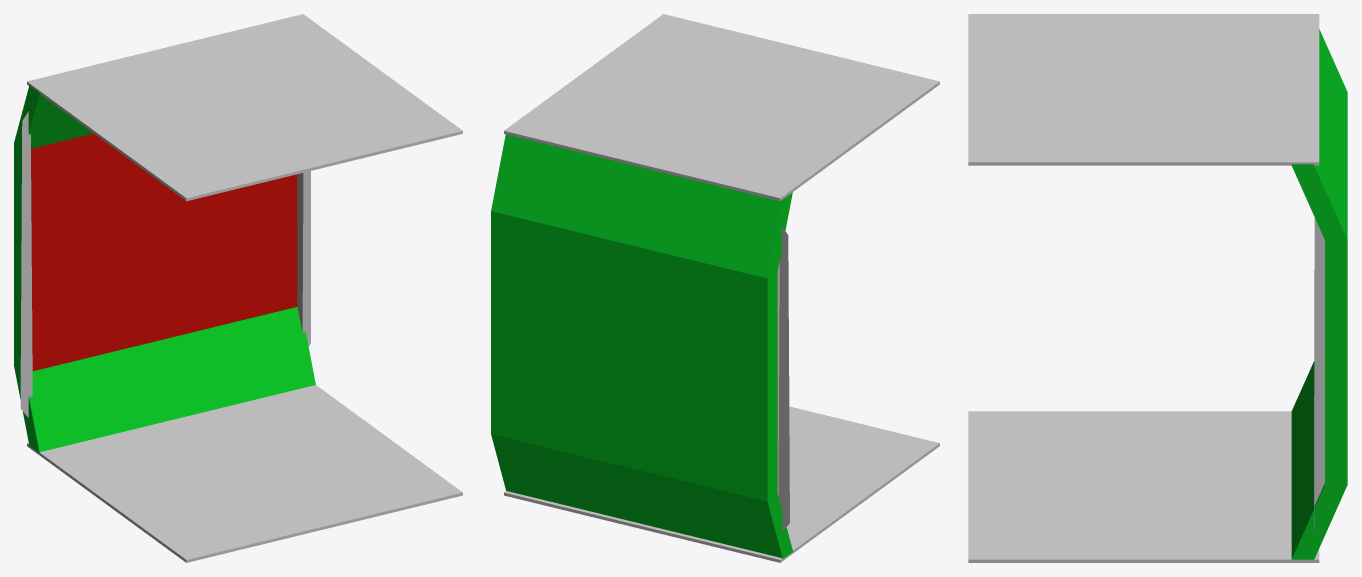
Rendered from Hallway.fbx.
3 views of the same model, side by side, from view 1: azimuth 30°, elevation 25°; view 2: azimuth 150°, elevation 25°; view 3: azimuth 270°, elevation 25° (orthographic). The views are drawn at different scales.
Parts seen in each view (by area): view 1: Wall, Roof, Floor, Edges, EdgeRight; view 2: Wall, Roof, Floor, Edges; view 3: Roof, Floor, Wall, EdgeRight.
Boxes of the visible parts, x1=… form: Wall: x1=14, y1=85, x2=315, y2=453; Roof: x1=27, y1=14, x2=462, y2=201; Floor: x1=27, y1=385, x2=462, y2=562; Edges: x1=20, y1=111, x2=32, y2=417; EdgeRight: x1=297, y1=171, x2=310, y2=346; Wall: x1=491, y1=134, x2=792, y2=558; Roof: x1=504, y1=14, x2=939, y2=201; Floor: x1=504, y1=406, x2=939, y2=562; Edges: x1=777, y1=226, x2=789, y2=531; Roof: x1=968, y1=14, x2=1319, y2=165; Floor: x1=968, y1=411, x2=1319, y2=562; Wall: x1=1291, y1=29, x2=1347, y2=559; EdgeRight: x1=1314, y1=218, x2=1324, y2=531.
Bounding box in the file's own units: 210 × 252 × 216.
